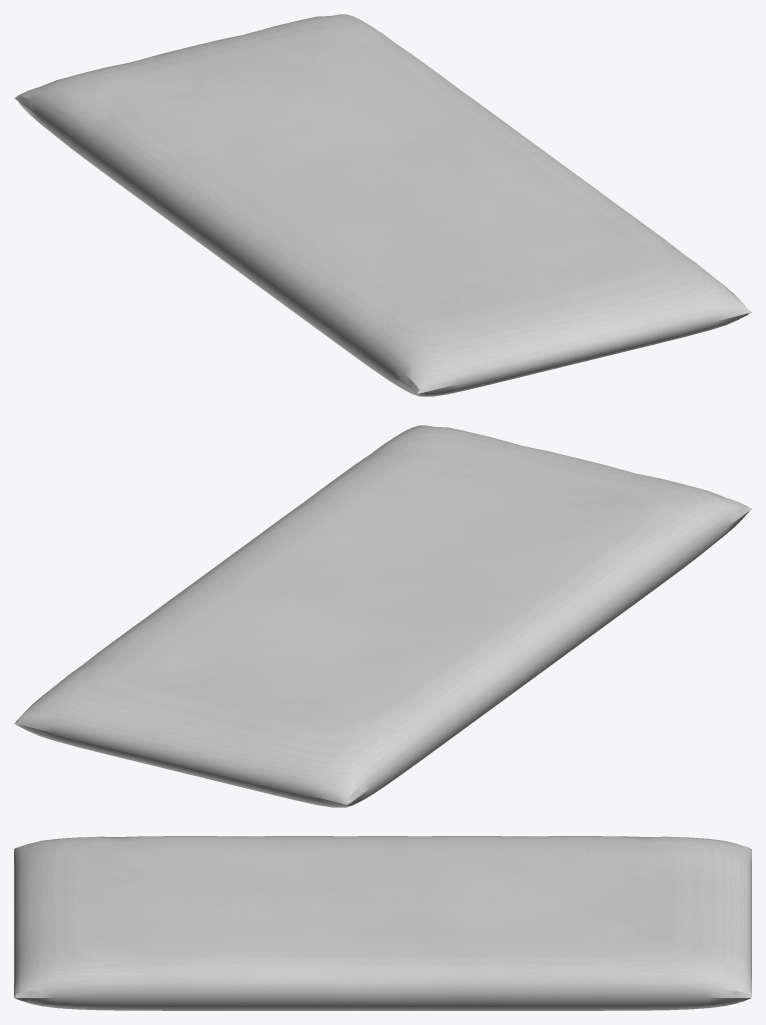
The model's file is bed_mattress.glb.
3 views of the same model, one above another, from view 1: azimuth 30°, elevation 25°; view 2: azimuth 150°, elevation 25°; view 3: azimuth 270°, elevation 25° (orthographic). The views are drawn at different scales.
Visible parts, largest first — view 1: bed_mattress; view 2: bed_mattress; view 3: bed_mattress.
Part boxes in pixels (bbox=[...]): bed_mattress: bbox=[14, 14, 751, 396]; bed_mattress: bbox=[14, 425, 751, 807]; bed_mattress: bbox=[14, 836, 751, 1010].
Bounding box in the file's own units: 0.62 × 0.1 × 1.3.
Materials: 1 (1 with a texture image).
